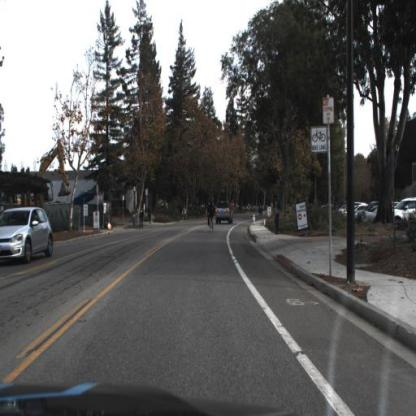biker: (207, 199, 216, 231), (181, 204, 188, 224)
car: (1, 206, 56, 266), (215, 201, 231, 226), (363, 207, 382, 223)
pedestrian: (272, 194, 282, 235), (140, 206, 146, 228), (148, 206, 153, 227), (134, 207, 139, 226), (257, 205, 262, 221), (261, 206, 265, 222)
truck: (22, 136, 73, 233)
